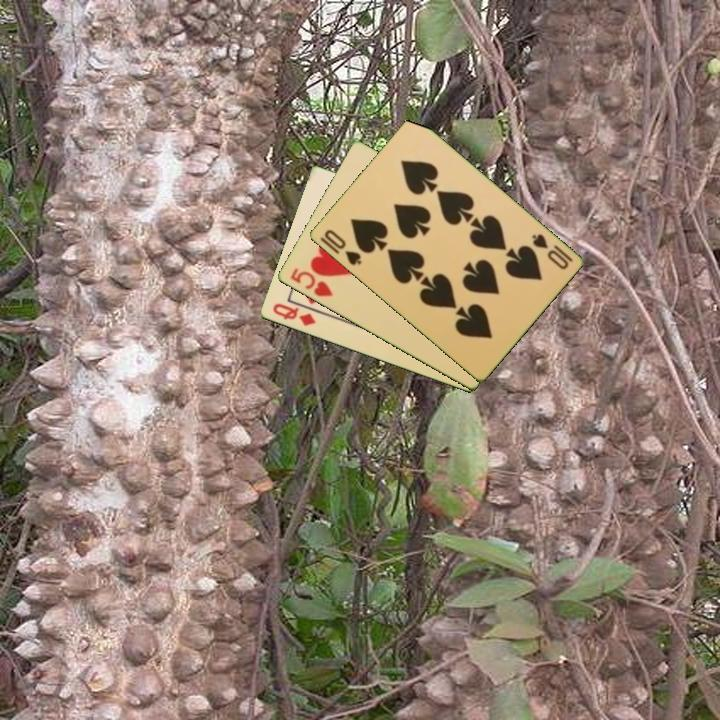10s: (528, 230, 575, 273), (320, 226, 364, 268)
5h: (286, 265, 335, 300)
Qd: (269, 300, 319, 329)
